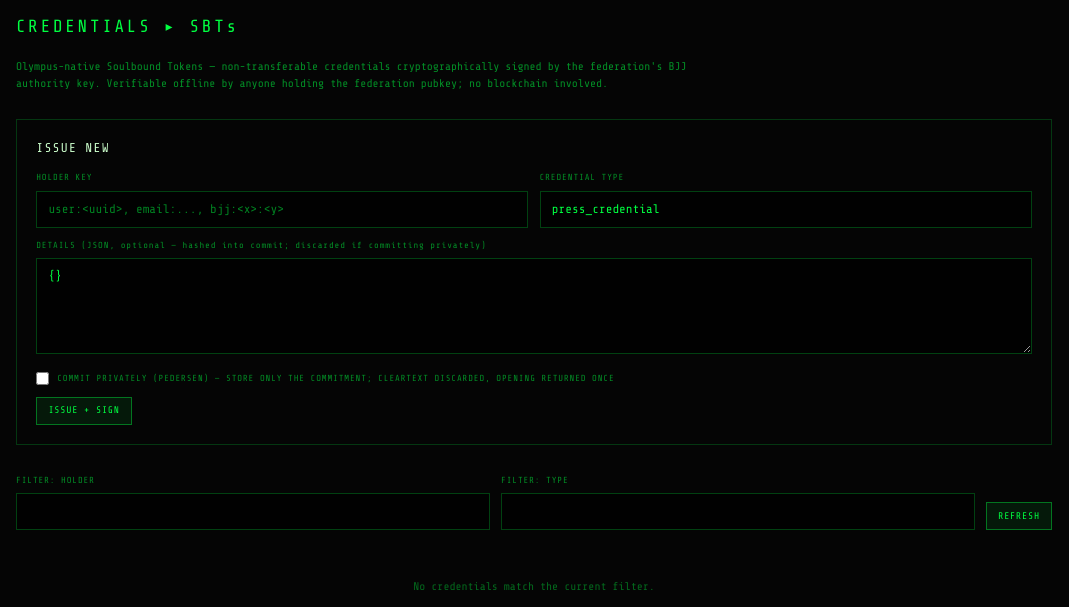
Test case: <CredentialsPage> › ISSUE surfaces the server error when the POST rejects
Expected: the heading "CREDENTIALS ▸ SBTs" is shown, [16, 16, 239, 36]
Type "holder-x" into the field with placeholder "user:<uuid>, email:..., bjj:<x>:<y>" at (282, 209), box [36, 191, 528, 228]
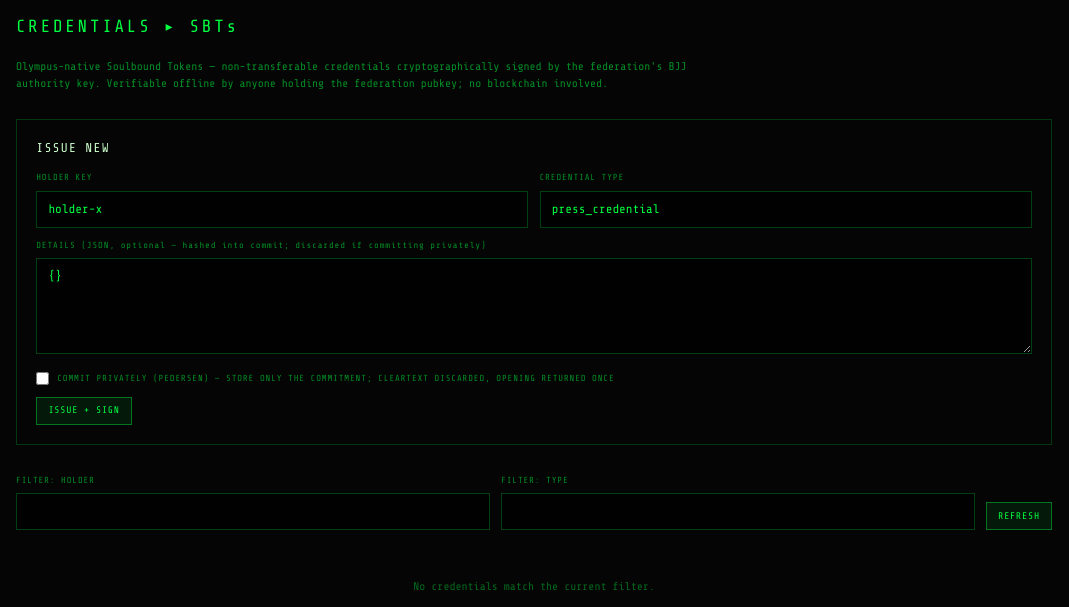
Click the button "ISSUE + SIGN" at (84, 411), box [36, 397, 132, 425]
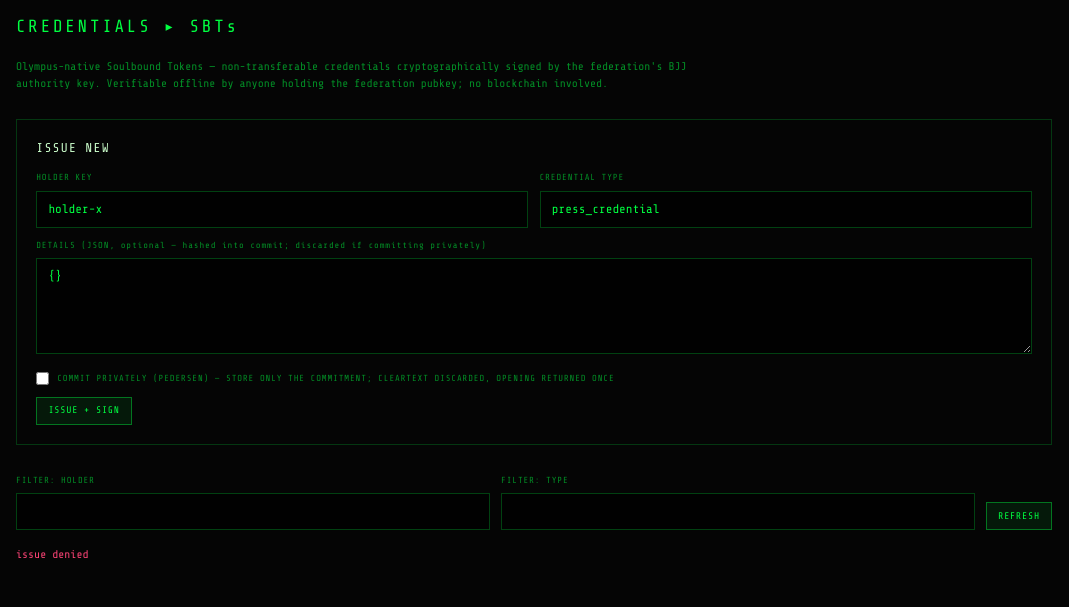
Expected: the text "issue denied" is shown, [16, 548, 88, 561]
